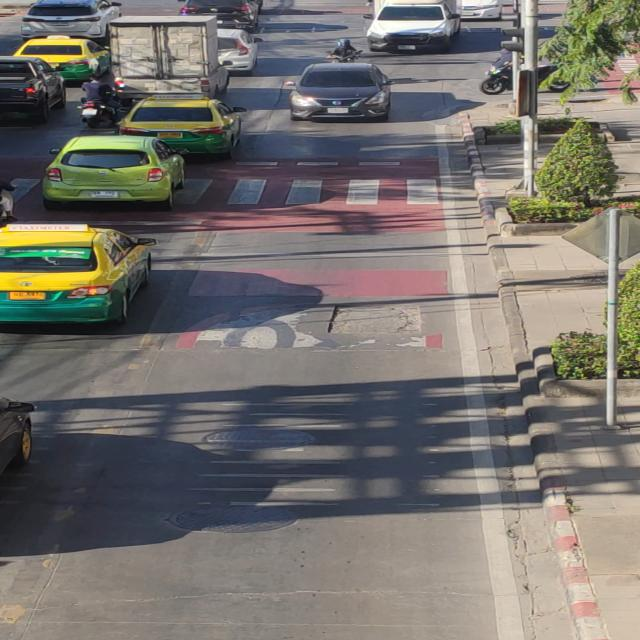car: (288, 59, 400, 126)
